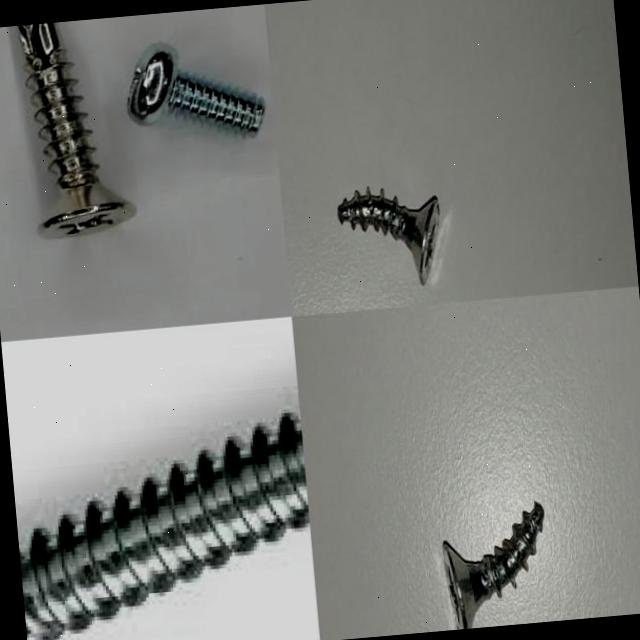Screw: (18, 409, 310, 640), (17, 22, 135, 238), (442, 503, 544, 629), (127, 45, 264, 135), (337, 187, 440, 285)
